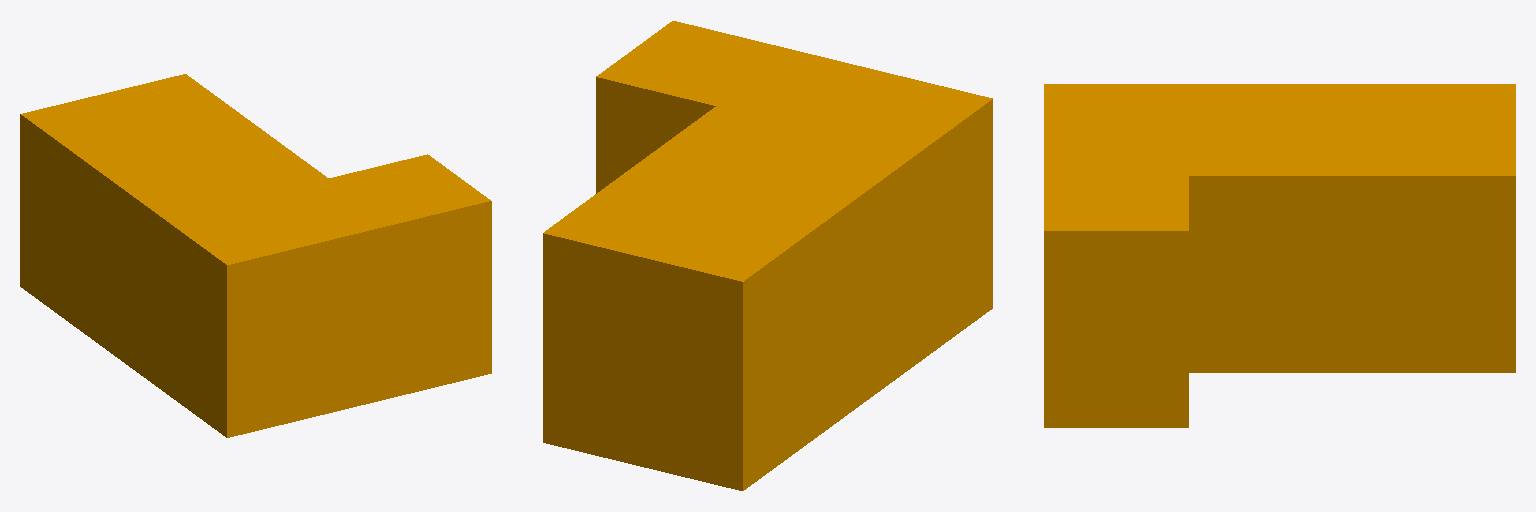
The robot description file, URDF, robot "LBlock.off":
<?xml version="1.0"?>
<robot name="LBlock.off">
	<link name="LBlock.off">
		<inertial>
			<!--origin xyz="0 0 0" rpy="0 0 0" /-->
			<mass value="0.5" />
			<!--inertia ixx="0.000360" ixy="0" ixz="0" iyy="0.0000615" iyz="0" izz="0.00036" /-->
		</inertial>
    		<visual>
	      		<!--origin rpy="0 0 0" xyz="0 0 0"/-->
      			<geometry>
        			<mesh filename="LBlock.off.obj"/>
      			</geometry>
         	</visual>
    		<collision>
      			<!--origin rpy="0 0 0" xyz="0 0 0"/-->
      			<geometry>
        			<mesh filename="LBlock.off.obj"/>
      			</geometry>
    		</collision>
	</link>
</robot>

--- Facts derived from the render (not from the file) ---
Views: 3 orthographic renders of the robot side by side, from view 1: azimuth 30°, elevation 25°; view 2: azimuth 150°, elevation 25°; view 3: azimuth 270°, elevation 25°.
Model LBlock.off with 1 links and 0 joints (none), rooted at LBlock.off, posed all joints at 0.
Links seen in each view (by area): view 1: LBlock.off; view 2: LBlock.off; view 3: LBlock.off.
Boxes of the visible links, box(x1,y1,x2,y2) form: LBlock.off: box(20, 74, 491, 437); LBlock.off: box(543, 21, 992, 490); LBlock.off: box(1044, 84, 1515, 427).
Size in the robot's own frame: 9.6 by 13 by 6 metres.
Meshes: 1 distinct files referenced, 1 mesh visuals loaded (1 OBJ).